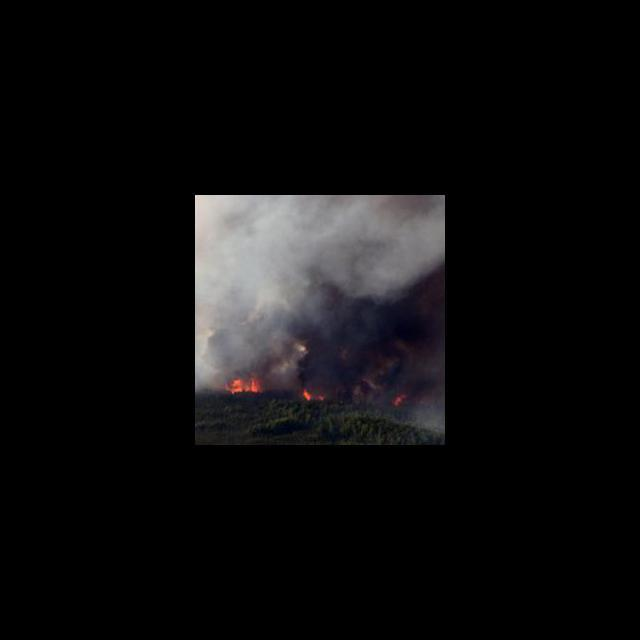Fire: (220, 376, 269, 402), (300, 386, 319, 401), (391, 393, 409, 406)
Smoke: (196, 195, 445, 376)
